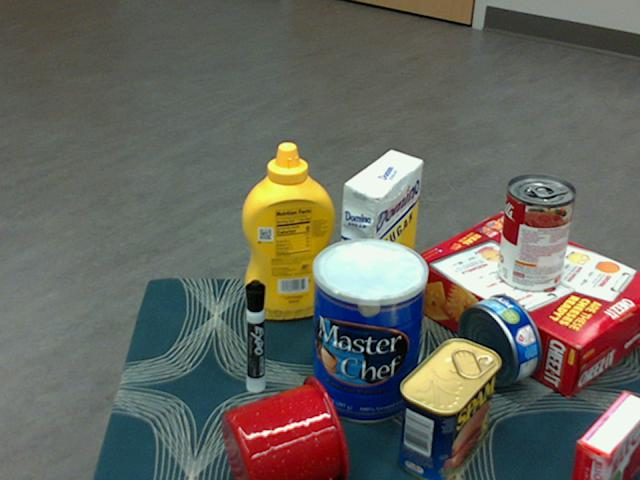cracker_box: (407, 214, 639, 393)
gelatin_box: (569, 391, 639, 479)
large_marker: (243, 278, 263, 393)
master_chef_can: (311, 238, 429, 425)
mug: (221, 375, 349, 479)
mustard_bottle: (241, 142, 334, 320)
potted_meat_can: (398, 339, 501, 479)
sugar_box: (335, 151, 424, 339)
tomato_soup_can: (497, 176, 575, 293)
tuna_fish_can: (459, 293, 542, 386)
